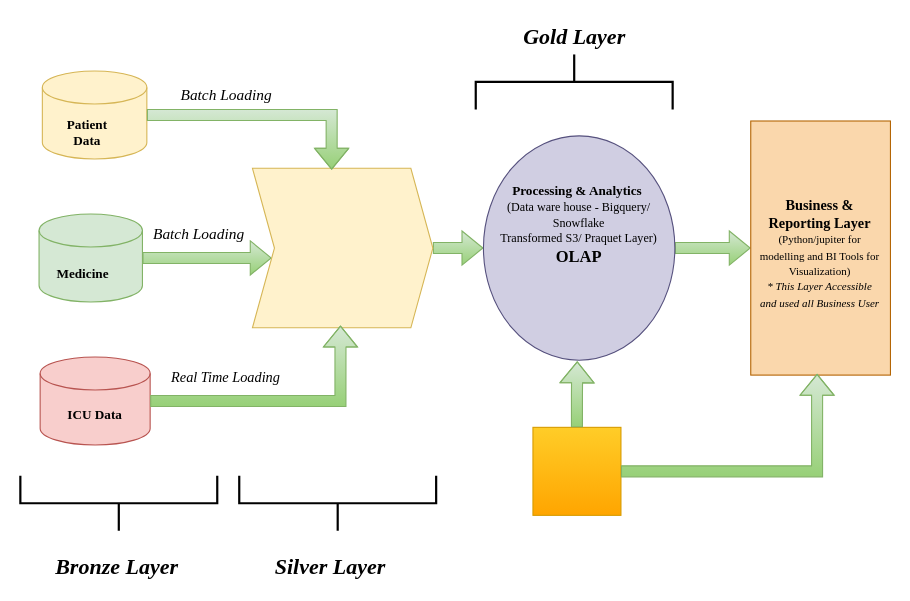
Some shapes in this 910 by 601 pixel diagram are drawn without their labels. The box of each missing label's shape, as (x1, y1, x2, y2) in pixels:
ML Algorithm: (532, 426, 621, 515)
Transformation Layer & Storage Layer (Eg :My SQL or Postgrade ) OLTP: (251, 167, 433, 328)
